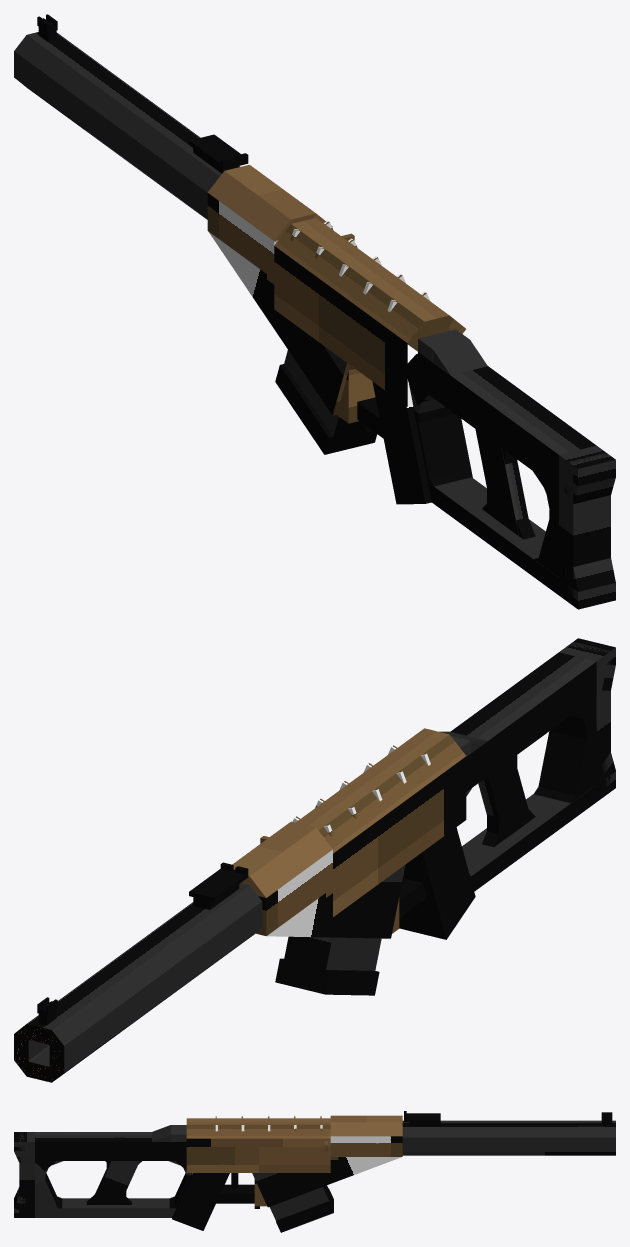
File: mteg_vss_vintorez.glb
3 renders of one model, top to bottom at view 1: azimuth 30°, elevation 25°; view 2: azimuth 150°, elevation 25°; view 3: azimuth 270°, elevation 25°, orthographic. The views are drawn at different scales.
Parts seen in each view (by area): view 1: Gun; view 2: Gun; view 3: Gun.
Boxes of the visible parts, box(x1,y1,x2,y2) form: Gun: box(14, 14, 615, 609); Gun: box(14, 638, 615, 1082); Gun: box(14, 1111, 615, 1232).
Size of the model in its own units: 0.1116 by 0.2963 by 1.44.
1 material, 1 textured.
